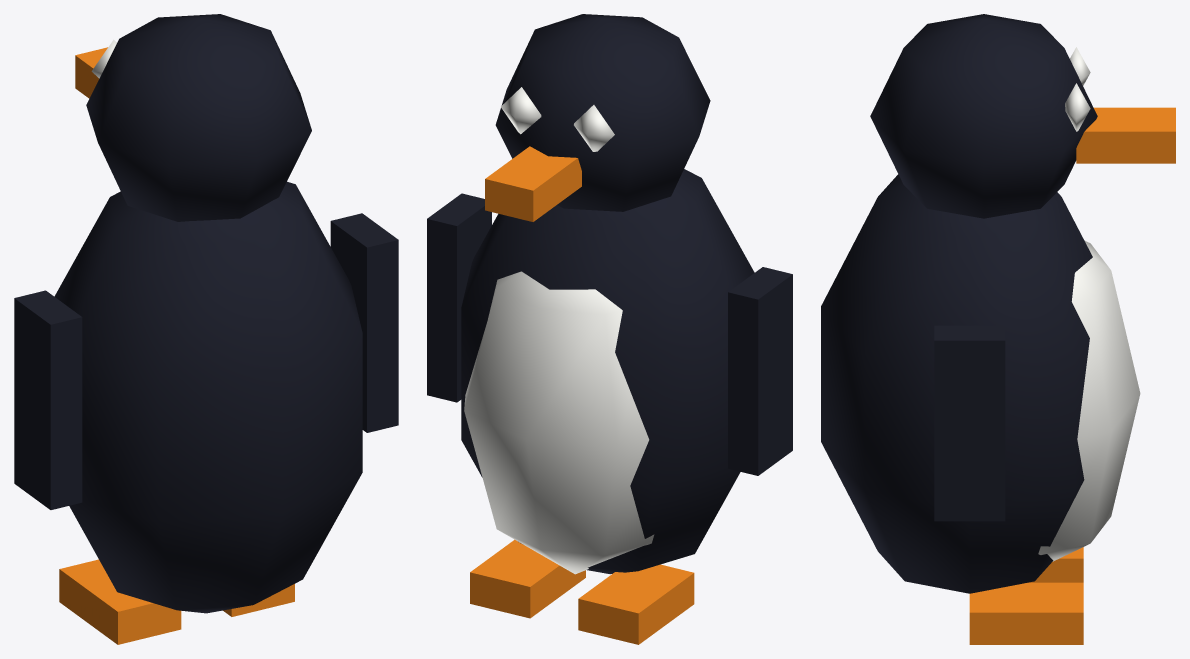
File: hielo_pinguino.obj
3 renders of one model, left to right at view 1: azimuth 30°, elevation 25°; view 2: azimuth 150°, elevation 25°; view 3: azimuth 270°, elevation 25°, orthographic. The views are drawn at different scales.
Visible parts, largest first — view 1: hielo_pinguino; view 2: hielo_pinguino; view 3: hielo_pinguino.
Part boxes in pixels (bbox=[...]): hielo_pinguino: bbox=[14, 14, 398, 644]; hielo_pinguino: bbox=[427, 14, 792, 644]; hielo_pinguino: bbox=[821, 14, 1175, 644].
Size of the model in its own units: 0.55 by 0.905 by 0.4992.
